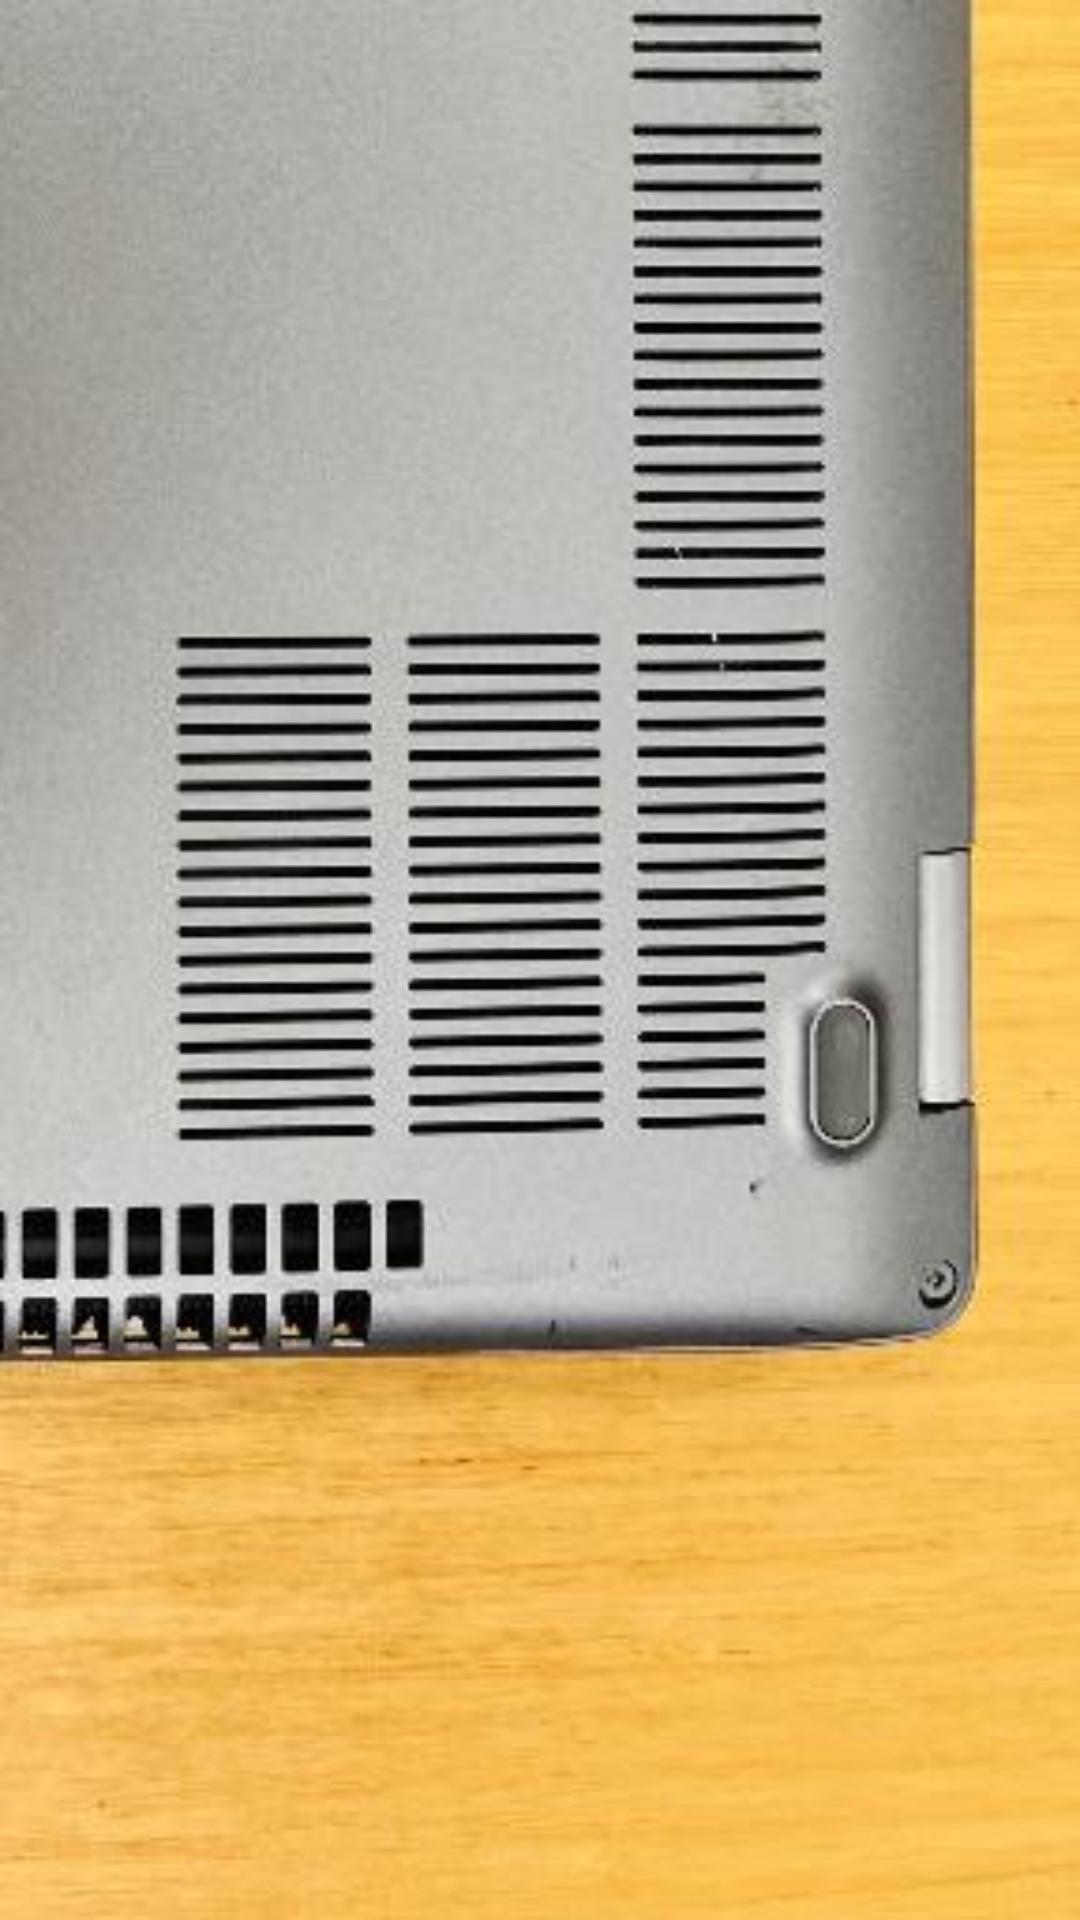chip: (746, 1176, 769, 1207)
